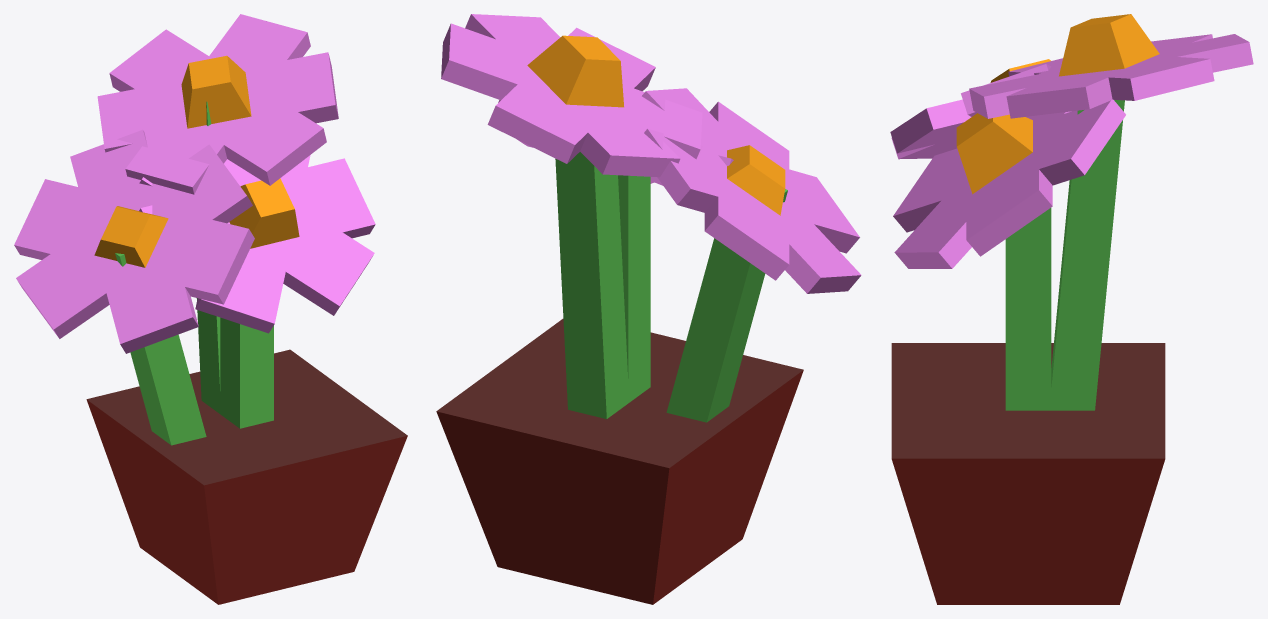
The model's file is vaso di fiori.gltf.
The picture shows the model from 3 angles, left to right: view 1: azimuth 30°, elevation 25°; view 2: azimuth 150°, elevation 25°; view 3: azimuth 270°, elevation 25°; orthographic projection. The views are drawn at different scales.
Visible parts, largest first — view 1: cuboid (×16); view 2: cuboid (×12); view 3: cuboid (×14).
Part boxes in pixels (box(x1,y1,x2,y2)): cuboid (×16): box(14, 14, 407, 604); cuboid (×12): box(436, 14, 861, 604); cuboid (×14): box(890, 14, 1253, 604).
Size of the model in its own units: 1.16 by 1.67 by 0.9951.
1 material, 1 textured.
